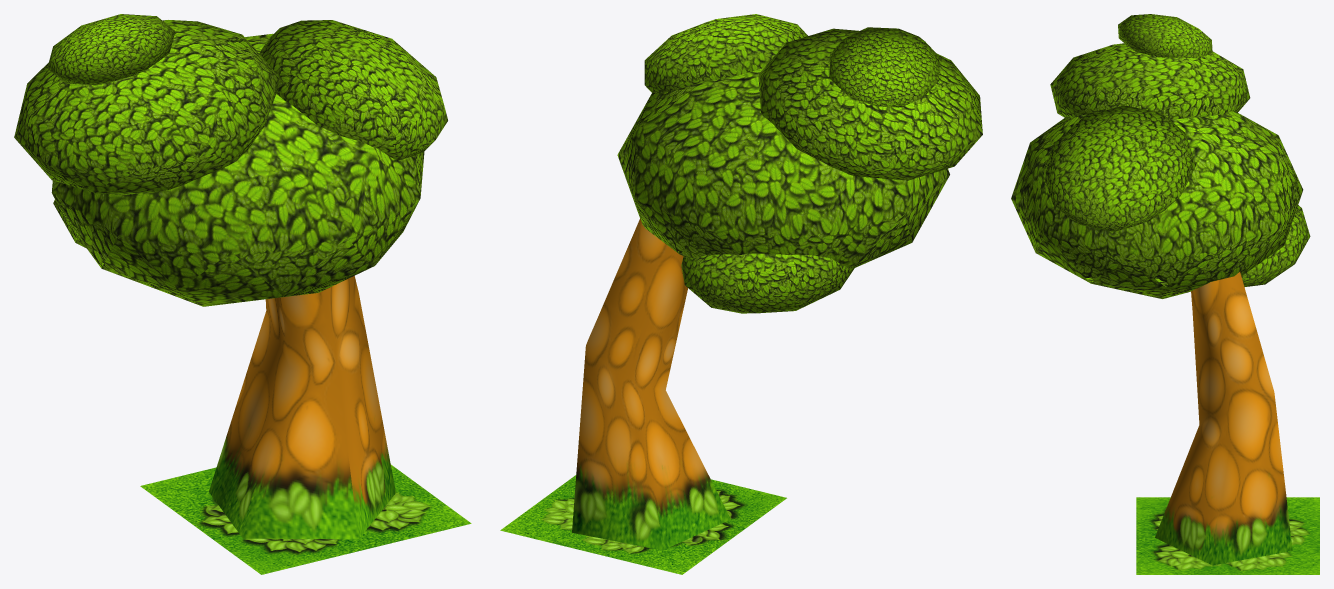
File: HD_DA_Trees_Big_001.FBX
3 renders of one model, left to right at view 1: azimuth 30°, elevation 25°; view 2: azimuth 150°, elevation 25°; view 3: azimuth 270°, elevation 25°, orthographic. The views are drawn at different scales.
Visible parts, largest first — view 1: HD_DA_Trees_Big_001; view 2: HD_DA_Trees_Big_001; view 3: HD_DA_Trees_Big_001.
Part boxes in pixels (x1,y1,x2,y2): HD_DA_Trees_Big_001: [14, 14, 471, 574]; HD_DA_Trees_Big_001: [500, 14, 982, 574]; HD_DA_Trees_Big_001: [1011, 14, 1319, 574].
Bounding box in the file's own units: 204 × 260 × 168.
Materials: 3 (3 with a texture image).
